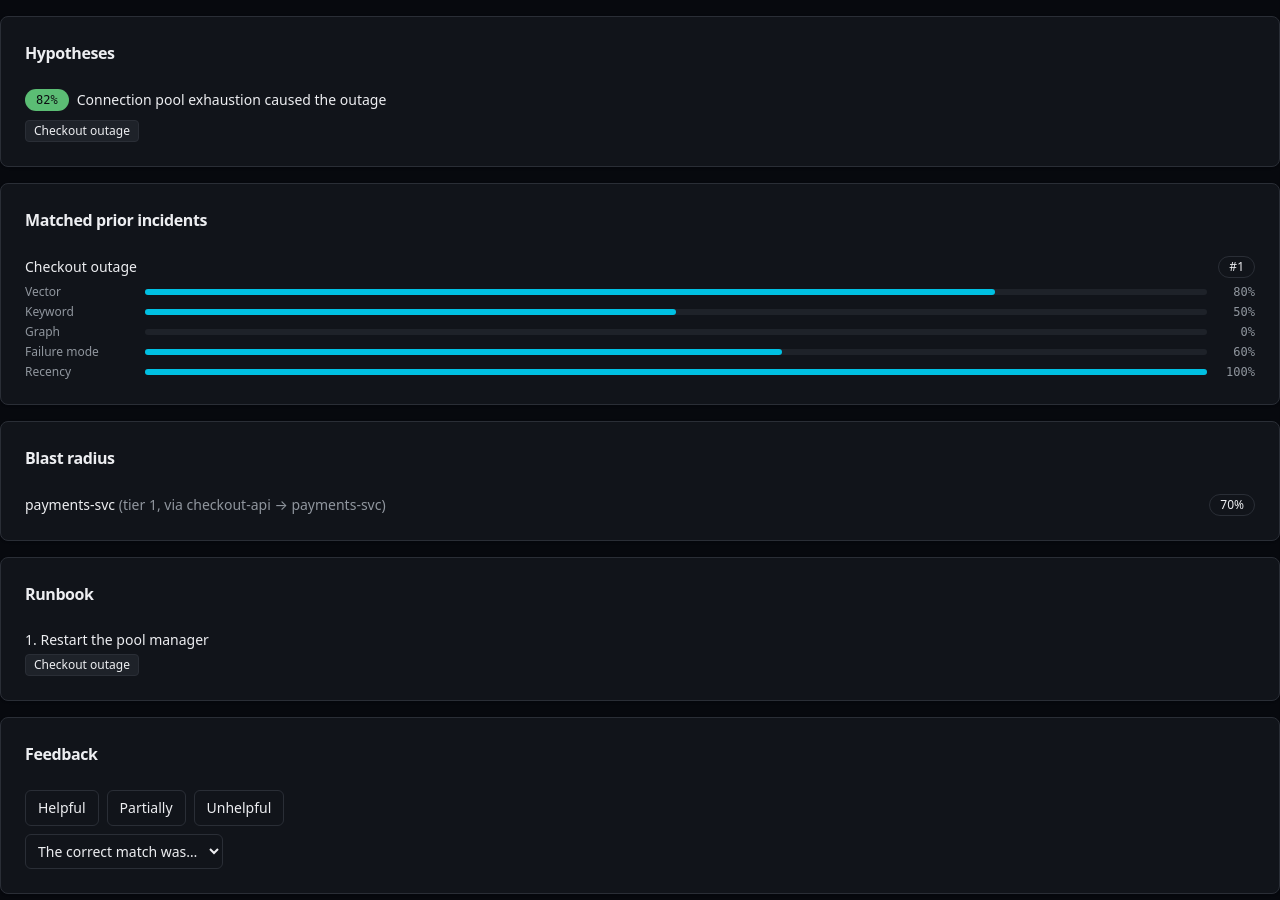
BriefView › submits feedback with the selected verdict and correct-match id
Select "Checkout outage" in the dropdown named "The correct match was" at {"x": 124, "y": 852}, box left=25, top=834, right=223, bottom=869
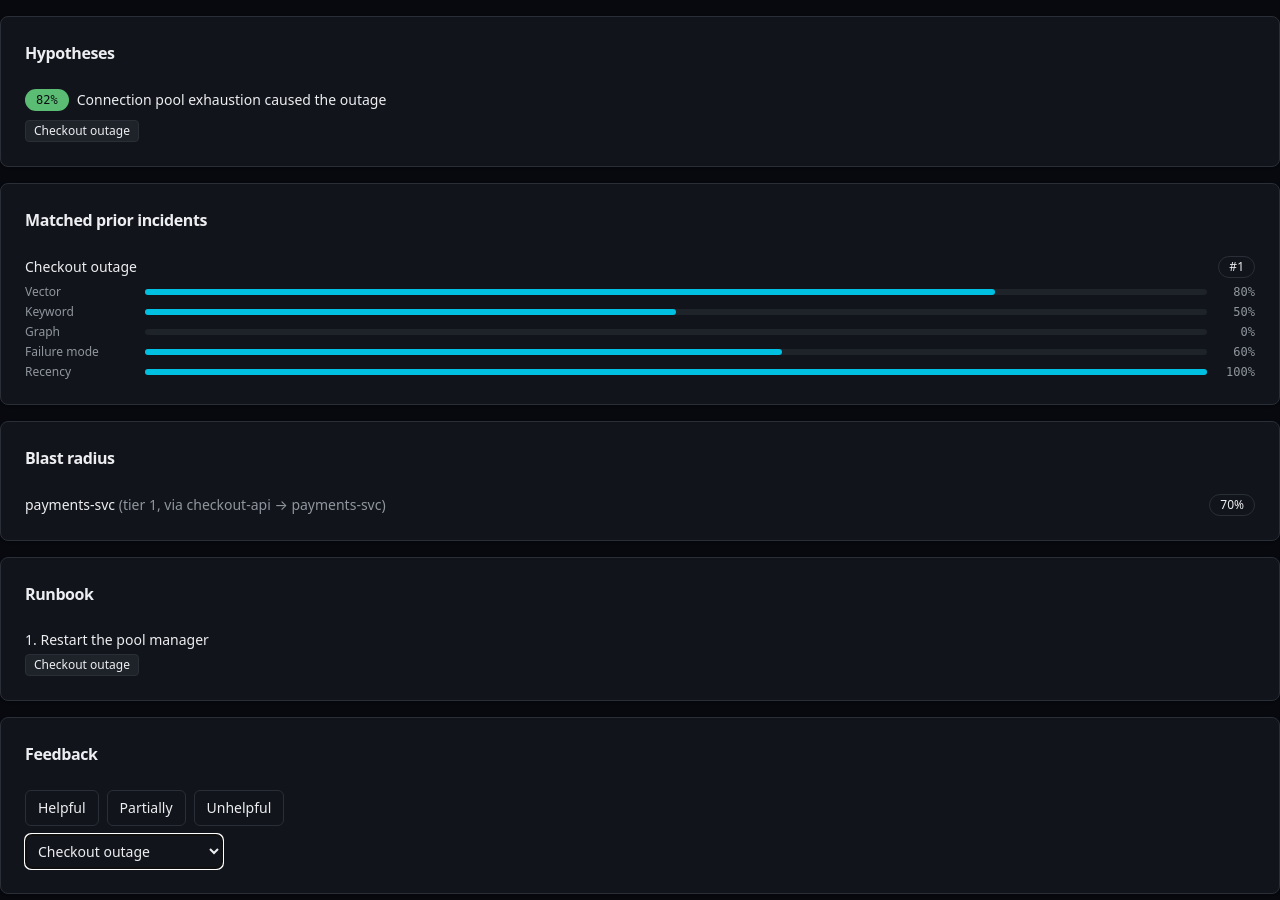
Click the button "Helpful".
click(62, 808)  # box left=25, top=790, right=99, bottom=826
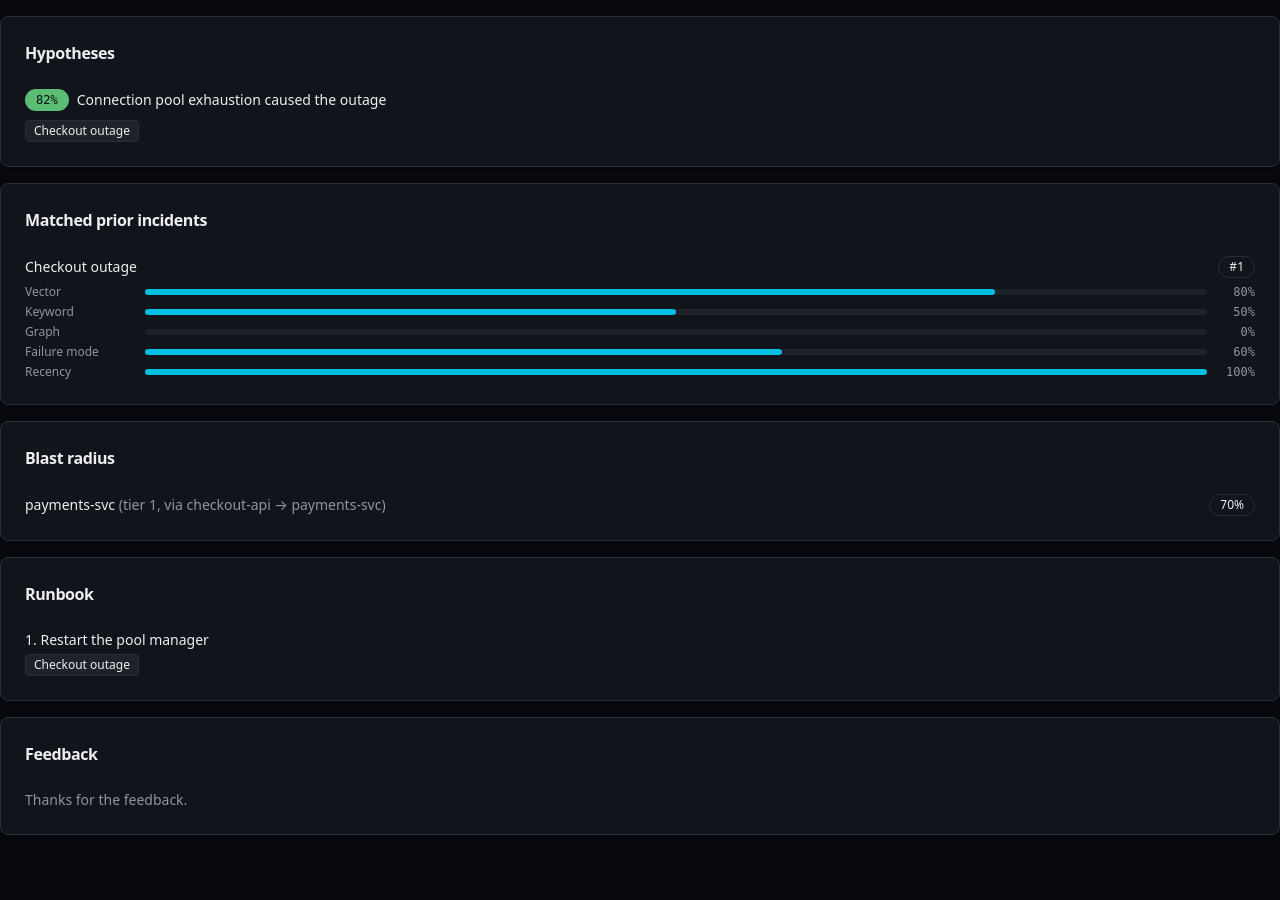
Result: the text "Thanks for the feedback." is shown at left=25, top=790, right=187, bottom=809
